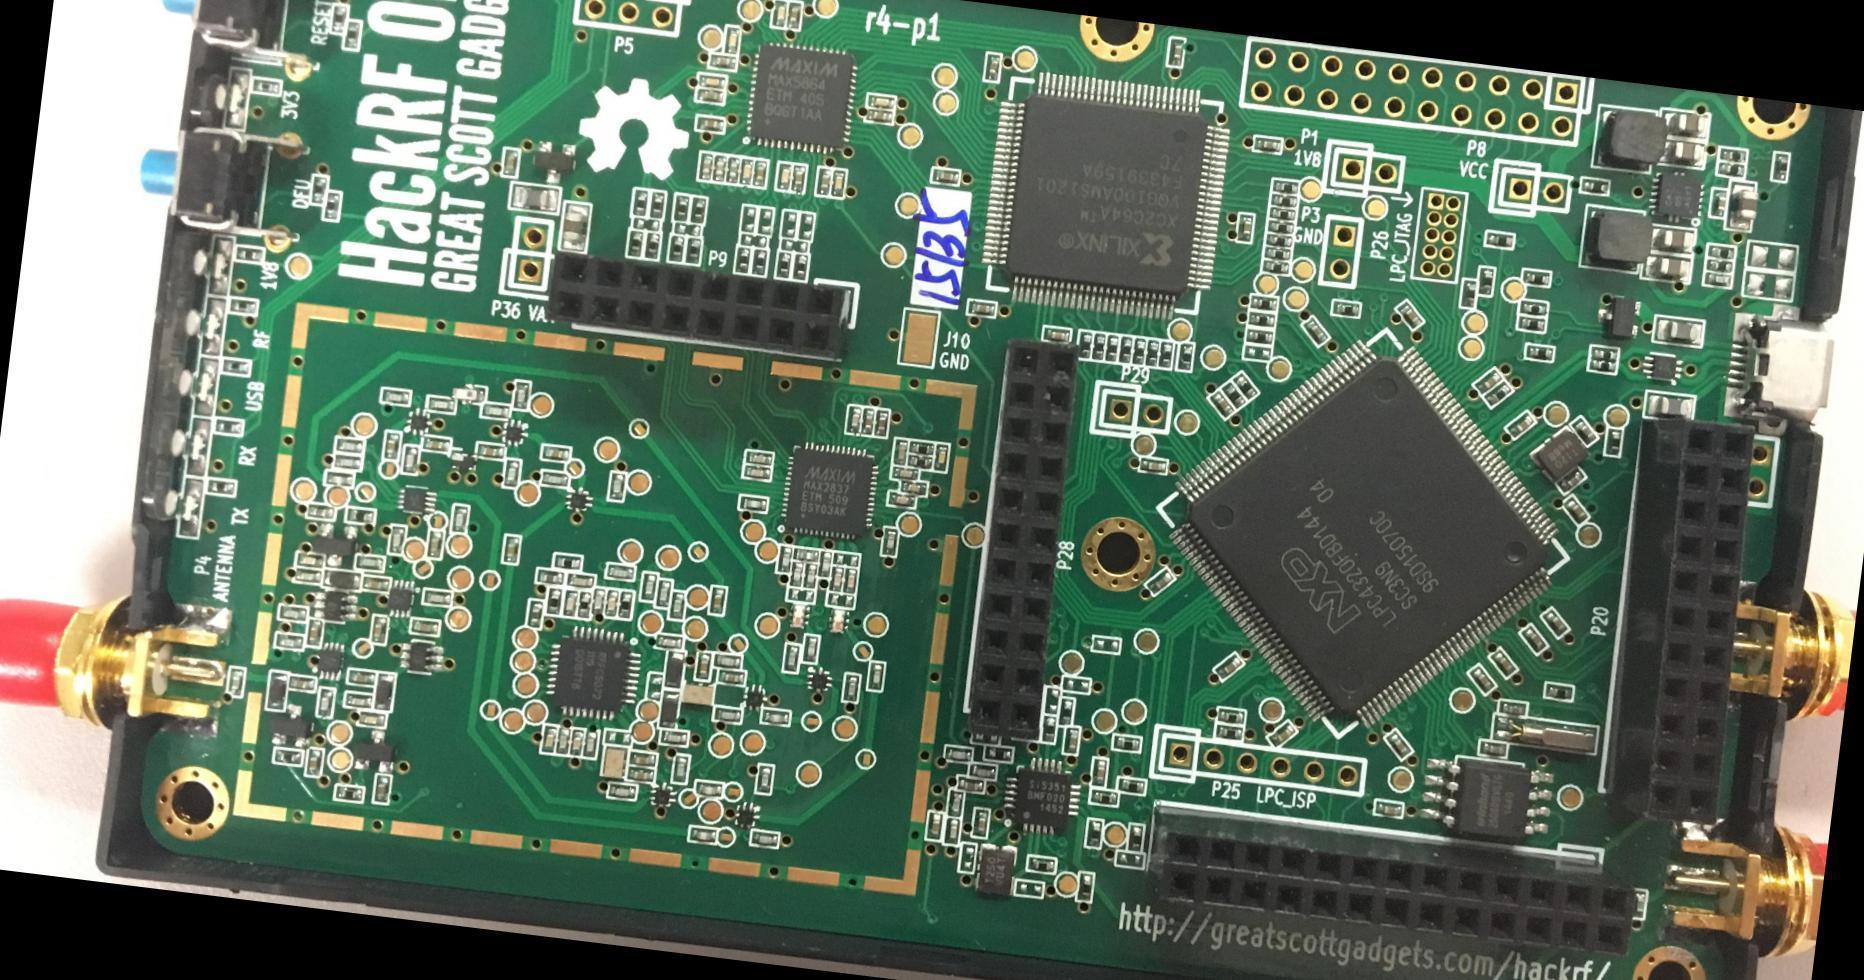Button: (131, 119, 274, 236), (151, 0, 299, 64)
Capacitor: (1651, 312, 1705, 347), (1725, 180, 1759, 233), (558, 200, 591, 253), (1659, 108, 1711, 140), (1640, 253, 1692, 284), (1642, 390, 1695, 420), (1648, 224, 1696, 257), (1660, 138, 1708, 170), (1380, 725, 1416, 762), (1516, 622, 1552, 658), (1485, 645, 1521, 681), (1298, 313, 1331, 346), (1540, 605, 1571, 639), (1467, 664, 1498, 696), (1214, 653, 1244, 682), (1560, 496, 1589, 526), (1395, 300, 1424, 329), (1146, 567, 1173, 596), (1474, 368, 1503, 395), (693, 112, 726, 135), (963, 297, 997, 319), (1371, 797, 1404, 819), (1234, 209, 1255, 243), (1209, 390, 1235, 417), (501, 532, 522, 565), (1165, 36, 1186, 69), (1250, 134, 1283, 155), (1708, 185, 1729, 218), (408, 617, 442, 637), (1269, 721, 1294, 748), (1507, 411, 1534, 436), (923, 809, 944, 841), (929, 165, 961, 186), (500, 145, 521, 177), (692, 87, 727, 106), (829, 165, 848, 199), (474, 440, 506, 460), (369, 613, 389, 645), (1088, 756, 1108, 788), (970, 808, 990, 840), (813, 166, 833, 198), (741, 447, 773, 466), (1476, 740, 1508, 759), (863, 105, 895, 124), (884, 490, 917, 508), (382, 430, 401, 461), (303, 746, 322, 777), (373, 773, 391, 805), (931, 441, 949, 472), (707, 584, 725, 615), (287, 674, 318, 692), (707, 53, 738, 71), (789, 162, 807, 193), (357, 710, 386, 729), (1041, 326, 1070, 345), (603, 586, 620, 618), (874, 407, 891, 439), (1062, 724, 1080, 754), (865, 91, 895, 109), (891, 436, 908, 467), (567, 727, 584, 758), (775, 161, 792, 192), (717, 667, 746, 685), (723, 23, 741, 52), (899, 478, 929, 495), (741, 463, 771, 480), (542, 444, 572, 461), (983, 51, 1000, 81), (695, 73, 725, 90), (423, 436, 451, 454), (753, 157, 769, 188), (860, 405, 876, 436), (695, 651, 712, 680), (306, 618, 323, 647), (785, 0, 802, 29), (770, 0, 787, 29), (1139, 456, 1166, 474), (427, 529, 443, 559), (540, 724, 556, 754), (1498, 700, 1526, 717), (956, 776, 984, 793), (348, 670, 375, 687), (361, 575, 389, 591), (890, 465, 918, 480), (738, 156, 753, 184), (630, 751, 656, 767), (627, 768, 653, 783), (831, 567, 845, 592), (844, 568, 858, 592)
Connector: (1142, 800, 1640, 957), (1597, 414, 1757, 823), (959, 340, 1078, 741), (1237, 35, 1585, 148), (0, 581, 233, 739), (544, 251, 855, 363), (1654, 817, 1828, 966), (1722, 579, 1858, 731), (1721, 307, 1838, 430), (1157, 734, 1367, 798), (1408, 187, 1468, 283), (571, 0, 687, 37), (1097, 386, 1174, 435), (1498, 165, 1574, 214), (1330, 146, 1406, 194), (1316, 212, 1363, 288), (509, 215, 554, 292), (1745, 432, 1782, 510)
IC: (1134, 301, 1598, 767), (984, 73, 1224, 313), (743, 36, 862, 153), (1417, 752, 1556, 847), (778, 440, 879, 542), (543, 622, 643, 724), (1001, 757, 1083, 837), (1647, 168, 1705, 224), (1533, 426, 1589, 481), (975, 843, 1016, 897), (397, 637, 446, 676), (313, 589, 357, 626), (1640, 349, 1684, 383), (397, 485, 436, 516), (316, 641, 344, 681), (389, 582, 417, 620), (805, 665, 834, 692), (563, 487, 591, 514), (741, 683, 767, 711), (732, 802, 760, 828), (404, 407, 431, 433), (501, 420, 528, 446), (648, 785, 675, 808)
Led: (154, 228, 236, 296), (141, 350, 221, 419), (151, 290, 230, 358), (180, 58, 253, 130), (129, 469, 206, 537), (134, 412, 212, 477)
Pads: (1738, 270, 1793, 304), (1744, 239, 1799, 272), (1090, 633, 1122, 656), (1113, 849, 1145, 870), (629, 214, 663, 233), (738, 202, 758, 234), (779, 208, 798, 241), (1013, 878, 1044, 898), (957, 841, 976, 873), (796, 209, 815, 241), (778, 237, 811, 254), (1059, 675, 1090, 693), (1041, 686, 1060, 715), (738, 232, 769, 249), (671, 220, 703, 236), (757, 205, 774, 234), (787, 587, 817, 603), (826, 592, 854, 608)
Resistor: (1520, 340, 1555, 363), (1173, 338, 1196, 373), (1088, 785, 1120, 809), (218, 355, 252, 377), (1542, 681, 1576, 703), (271, 746, 304, 768), (1769, 150, 1790, 184), (1024, 853, 1056, 875), (232, 243, 264, 265), (1083, 816, 1104, 849), (329, 1, 350, 34), (1482, 229, 1515, 250), (212, 415, 244, 436), (1115, 776, 1147, 797), (669, 192, 690, 224), (308, 173, 329, 205), (1038, 713, 1058, 746), (1075, 870, 1095, 903), (1110, 733, 1141, 754), (323, 189, 342, 223), (683, 233, 702, 267), (1578, 176, 1610, 196), (1476, 265, 1496, 297), (1518, 298, 1550, 318), (617, 587, 636, 620), (342, 18, 361, 51), (227, 296, 258, 316), (982, 744, 1014, 763), (648, 189, 667, 221), (1515, 315, 1547, 334), (666, 232, 685, 264), (774, 249, 793, 281), (624, 228, 644, 258), (1116, 332, 1134, 365), (205, 478, 236, 497), (344, 506, 375, 525), (1715, 161, 1746, 180), (1521, 270, 1552, 289), (688, 194, 707, 225), (1330, 299, 1361, 318), (1245, 309, 1276, 328), (1241, 342, 1272, 361), (576, 589, 594, 621), (333, 785, 363, 804), (1217, 707, 1245, 727), (551, 553, 582, 571), (1212, 724, 1243, 742), (1718, 145, 1749, 163), (1247, 293, 1278, 311), (643, 232, 661, 263), (1243, 327, 1274, 345), (1157, 339, 1175, 370), (791, 252, 810, 281), (968, 731, 1002, 747), (752, 247, 770, 277), (1605, 429, 1624, 457), (1263, 231, 1294, 248), (1260, 258, 1291, 275), (1076, 329, 1093, 360), (1091, 331, 1108, 362), (1057, 697, 1075, 726), (1126, 824, 1144, 853), (733, 245, 751, 274), (253, 78, 283, 95), (1460, 279, 1477, 309), (1261, 244, 1292, 260), (633, 187, 650, 216), (1272, 177, 1299, 195), (1234, 377, 1256, 399), (1225, 384, 1246, 407), (1267, 205, 1297, 221), (1131, 337, 1147, 367), (545, 587, 562, 615), (1487, 385, 1510, 405), (1265, 219, 1295, 234), (1707, 244, 1735, 260), (1706, 258, 1734, 274), (1591, 344, 1618, 360), (1145, 337, 1159, 367), (907, 454, 933, 470), (1589, 358, 1615, 374), (1104, 335, 1119, 362), (1269, 193, 1297, 207), (911, 440, 935, 456)
Transistor: (307, 522, 359, 569), (268, 701, 314, 750), (531, 138, 577, 185), (1597, 294, 1642, 340), (351, 728, 396, 772)
